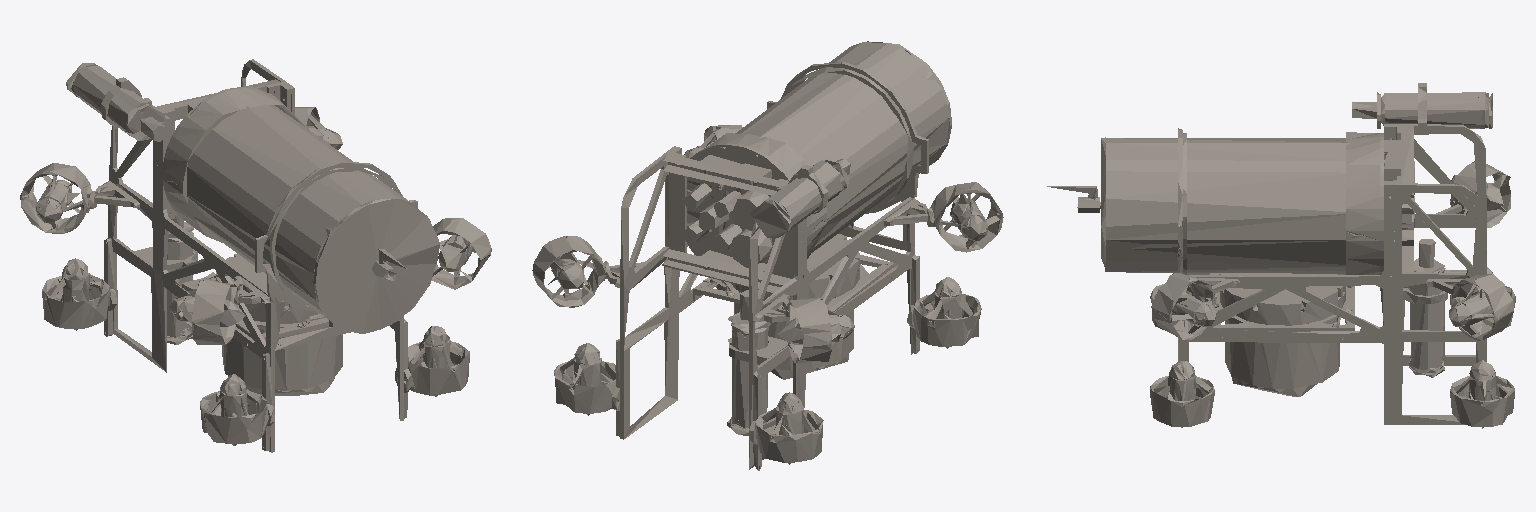
robot.urdf — sub-urdf:
<robot
  name="sub-urdf">
  <link
    name="base_link">
    <inertial>
      <origin
        xyz="0 0 2"
        rpy="1.57 0 0" />
      <mass
        value="12.0402580357079" />
      <inertia
        ixx="0.339837446412162"
        ixy="-0.00710856649692138"
        ixz="-0.00439921566374207"
        iyy="0.186374894960093"
        iyz="-0.00780267565736607"
        izz="0.303768511784769" />
    </inertial>
    <visual>
      <origin
        xyz="0 0 0"
        rpy="1.57 0 0" />
      <geometry>
        <mesh
          filename="package://sub-urdf/meshes/base_link.STL" />
      </geometry>
      <material
        name="">
        <color
          rgba="0.647058823529412 0.619607843137255 0.588235294117647 1" />
      </material>
    </visual>
    <collision>
      <origin
        xyz="0 0 0"
        rpy="1.57 0 0" />
      <geometry>
        <mesh
          filename="package://sub-urdf/meshes/base_link.STL" />
      </geometry>
    </collision>
  </link>
</robot>

--- Render facts (derived) ---
Views: 3 orthographic renders of the robot side by side, from view 1: azimuth 30°, elevation 25°; view 2: azimuth 150°, elevation 25°; view 3: azimuth 270°, elevation 25°.
Robot: sub-urdf — 1 links, 0 joints (none); root link base_link; default pose: all joints at 0.
Visible links, largest first — view 1: base_link; view 2: base_link; view 3: base_link.
Boxes of the visible links, <box> form: base_link: <box>20,59,491,452</box>; base_link: <box>532,41,1003,470</box>; base_link: <box>1047,83,1515,428</box>.
Bounding box of the posed robot: 12.47 × 17.72 × 11.18 m (x, y, z).
1 mesh visuals loaded from 1 distinct referenced files (1 binary STL).